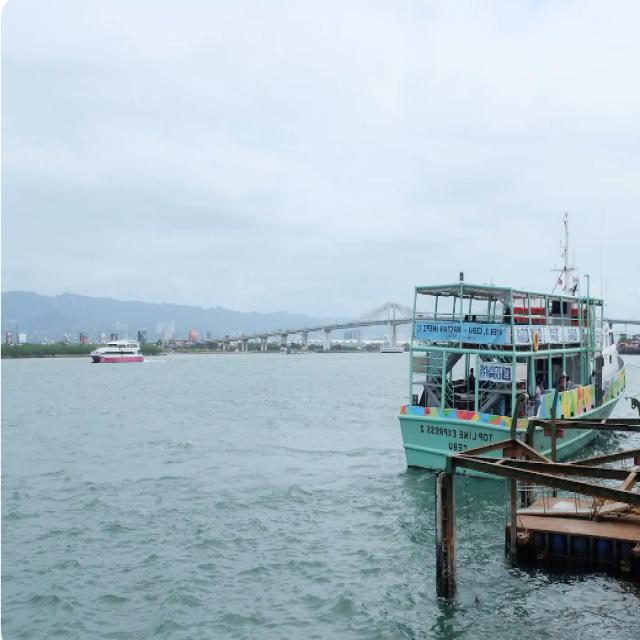passenger ship: (366, 284, 632, 490)
